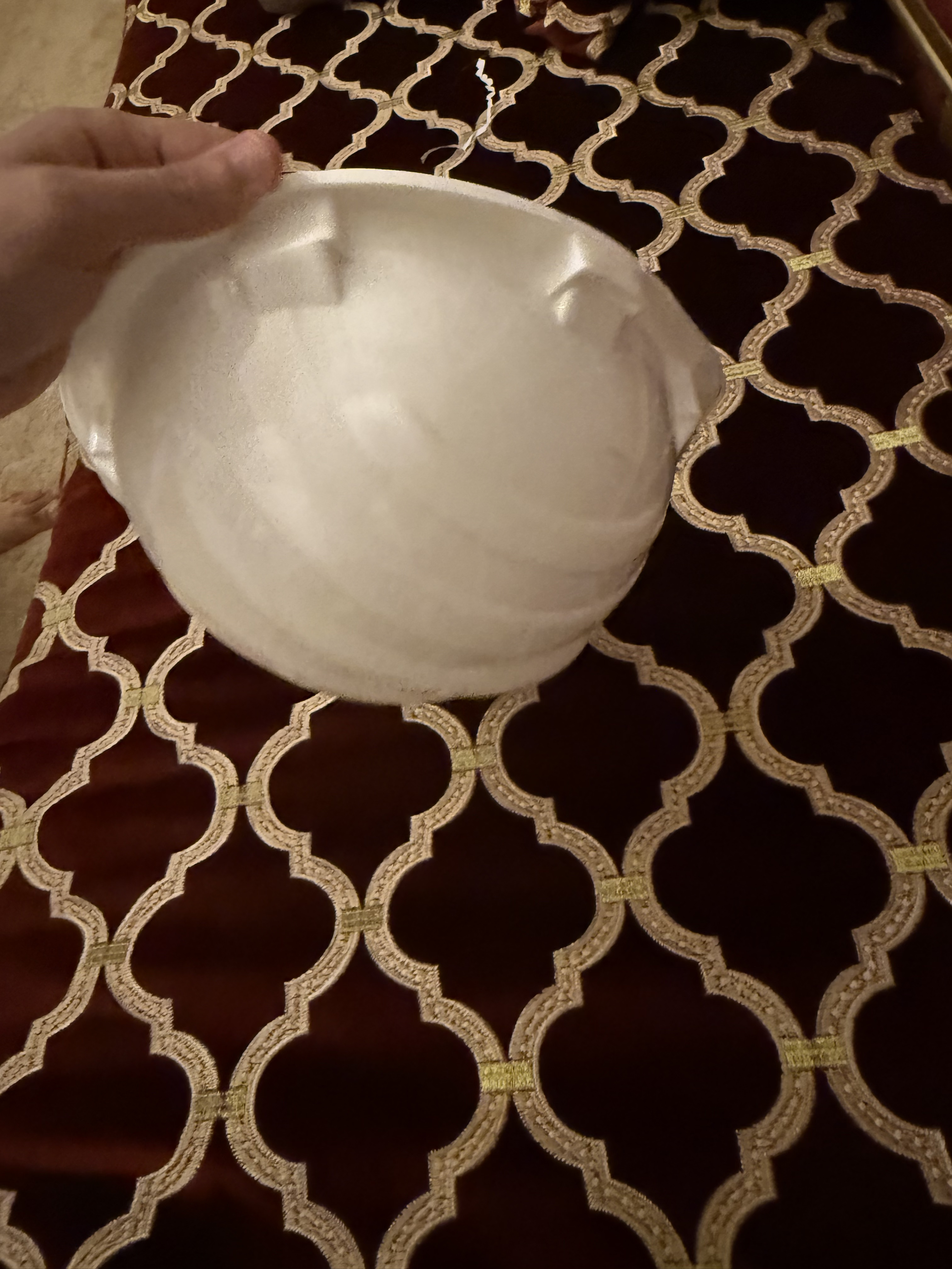safety_helmet: (56, 161, 741, 710)
